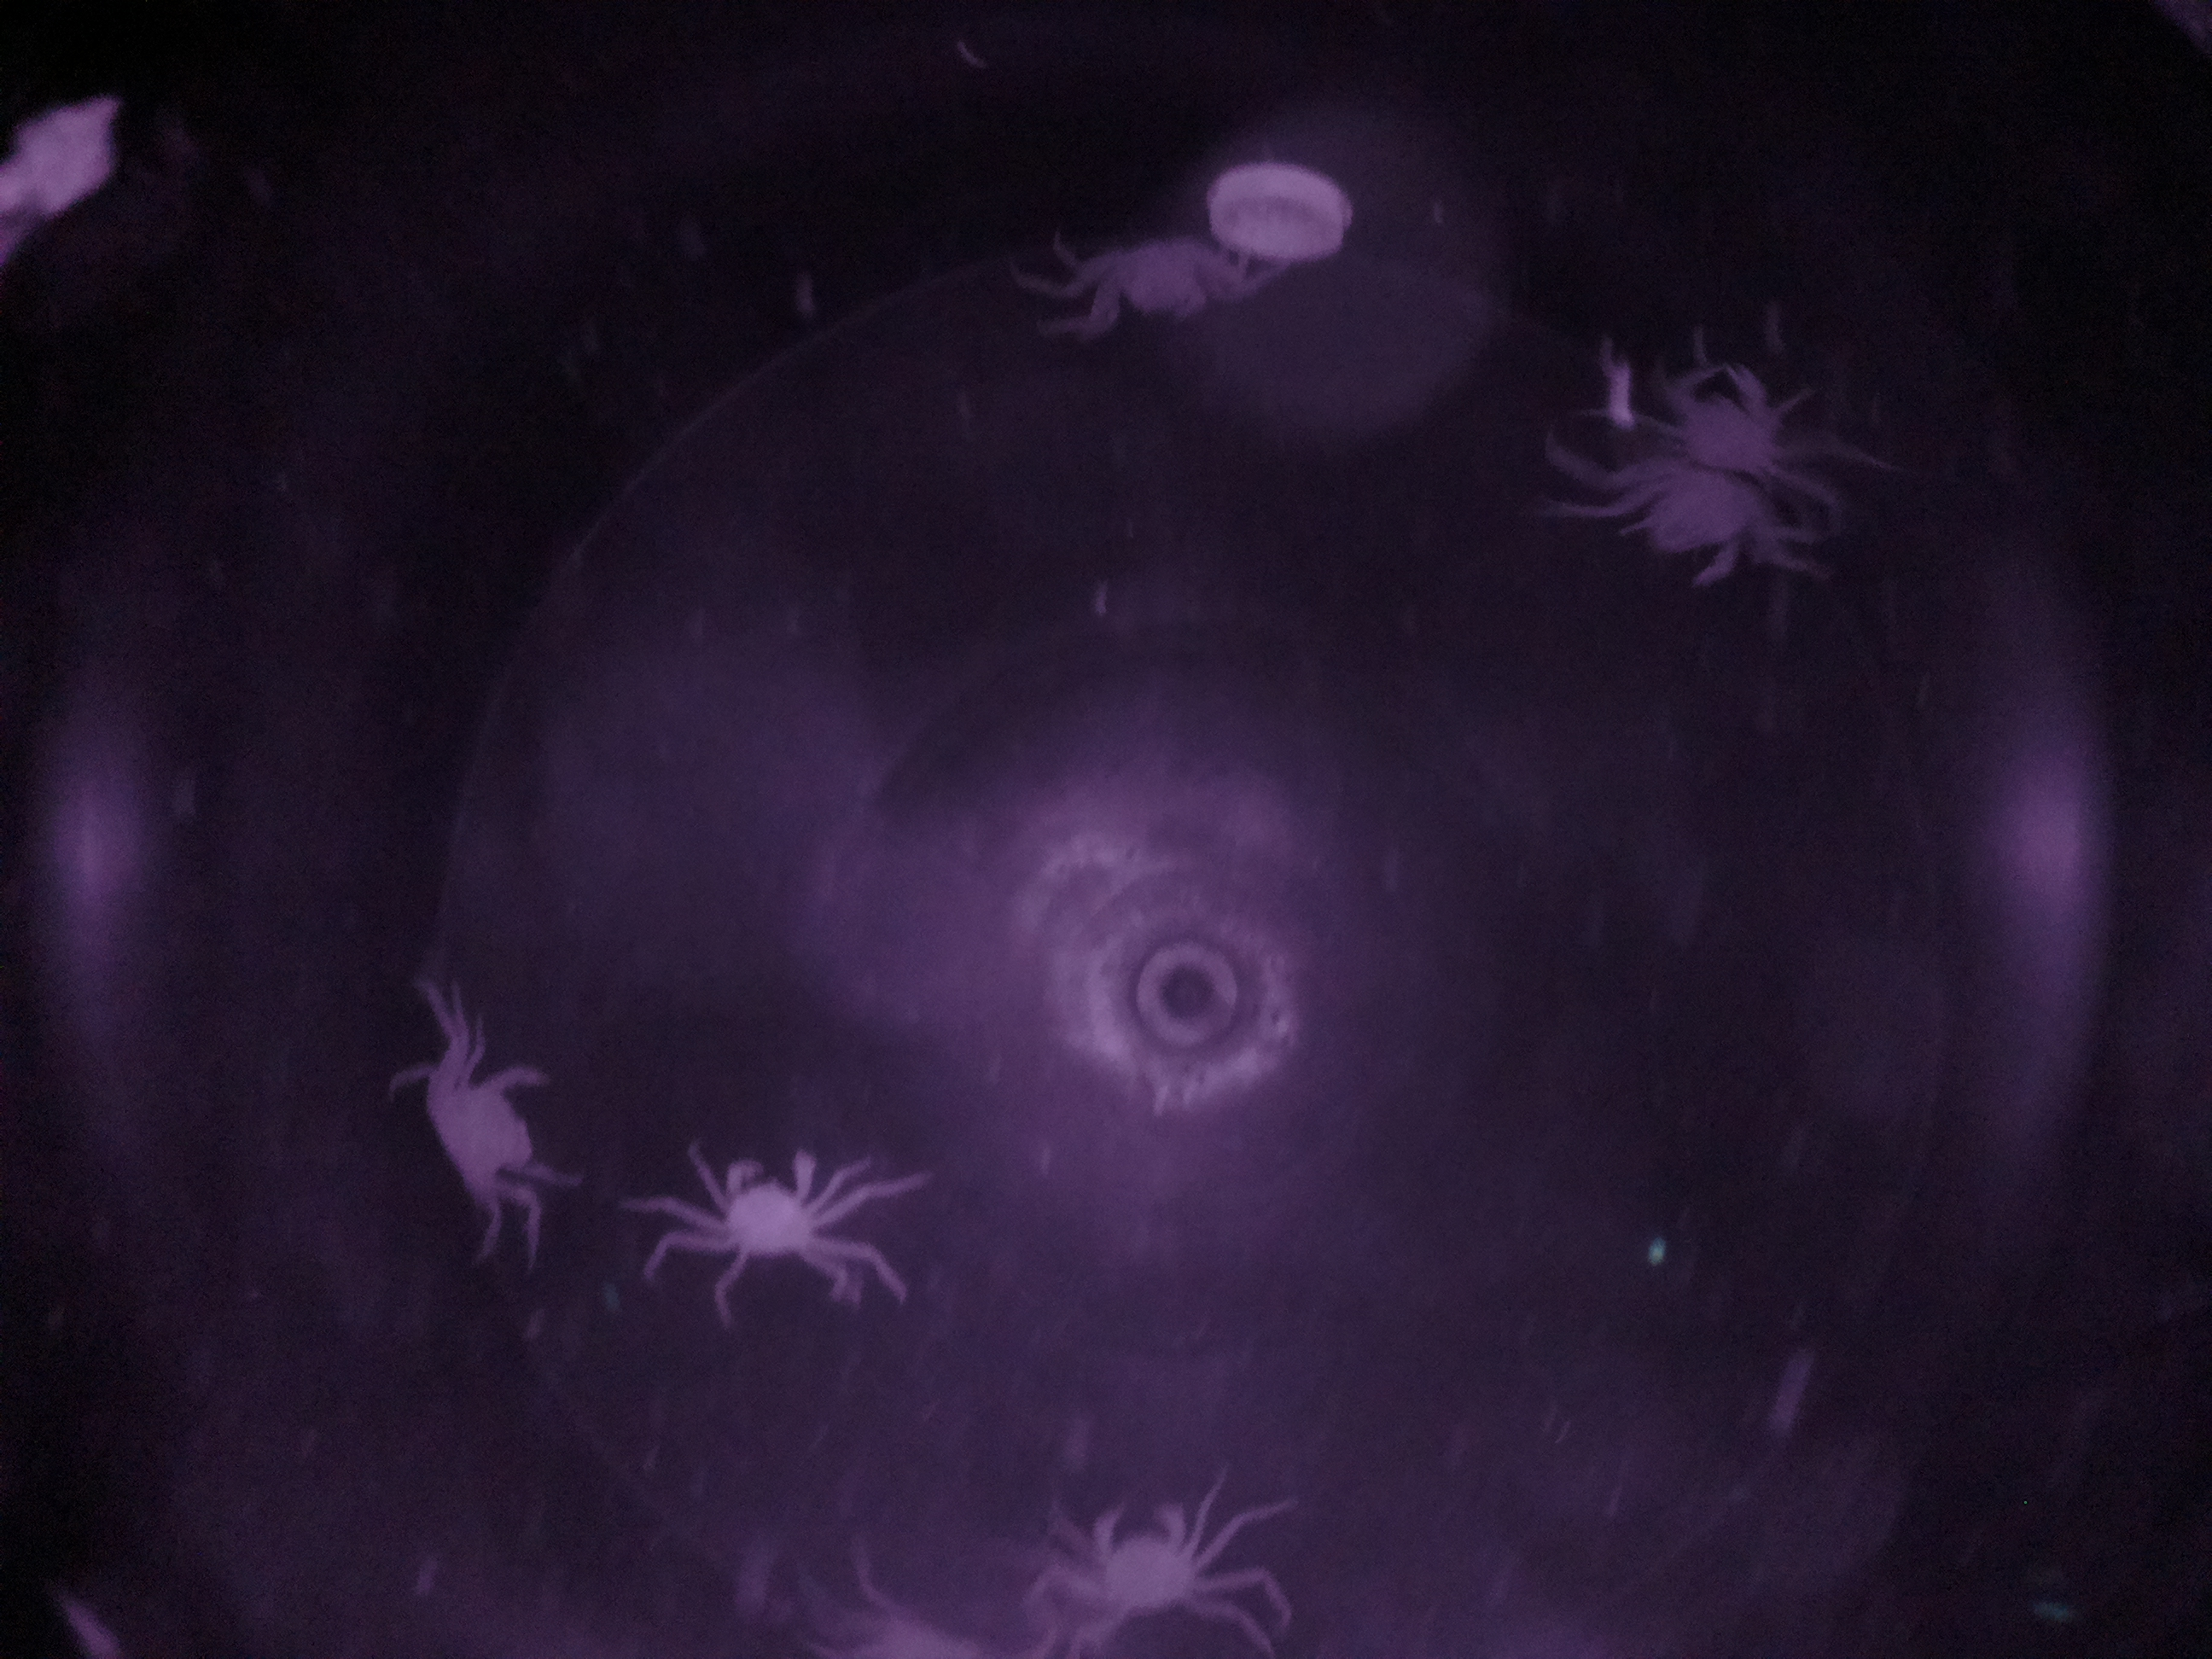Crab: (1008, 1469, 1258, 1649), (381, 1037, 590, 1218), (1042, 199, 1258, 347), (671, 1131, 848, 1295)
